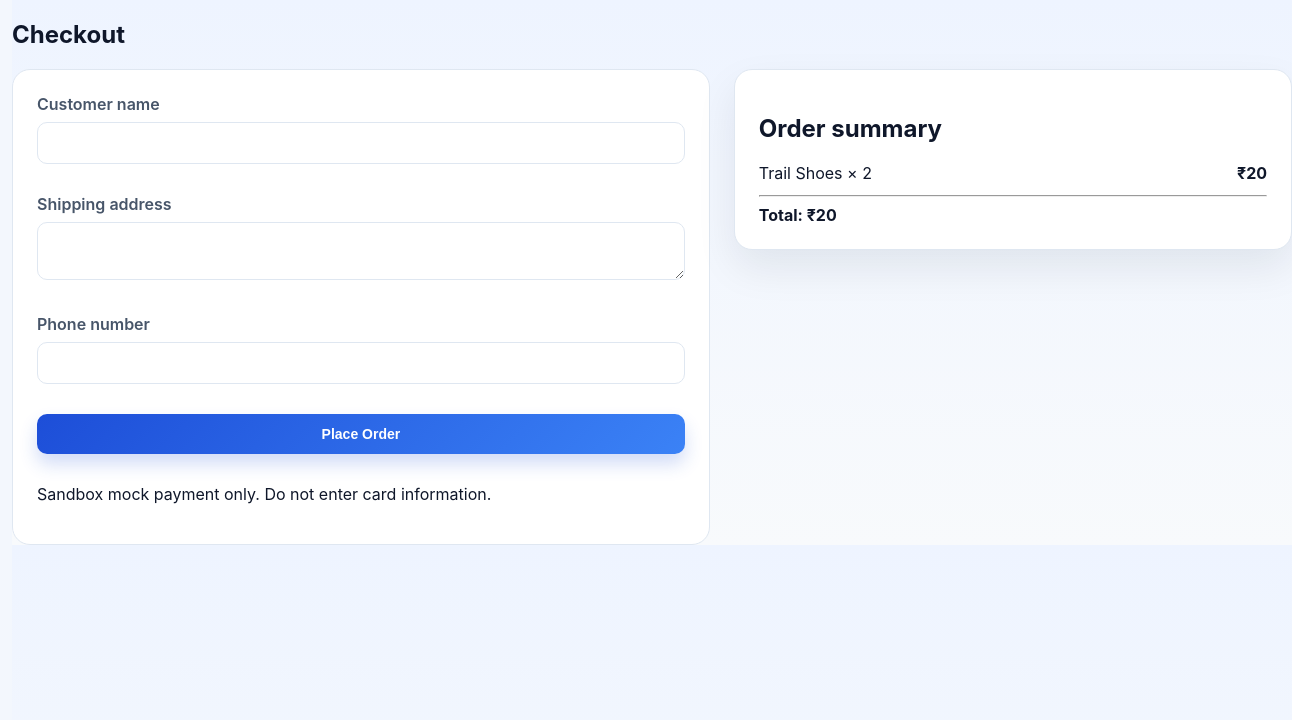
Test: checkout › retries payment with the same idempotency key after a transient error
expect the heading "Checkout" is shown: met, box x1=12 y1=20 x2=125 y2=49
Type "Demo Customer" into the field labelled "Customer name".
click(361, 143); type("Demo Customer")  # box x1=37 y1=122 x2=685 y2=164
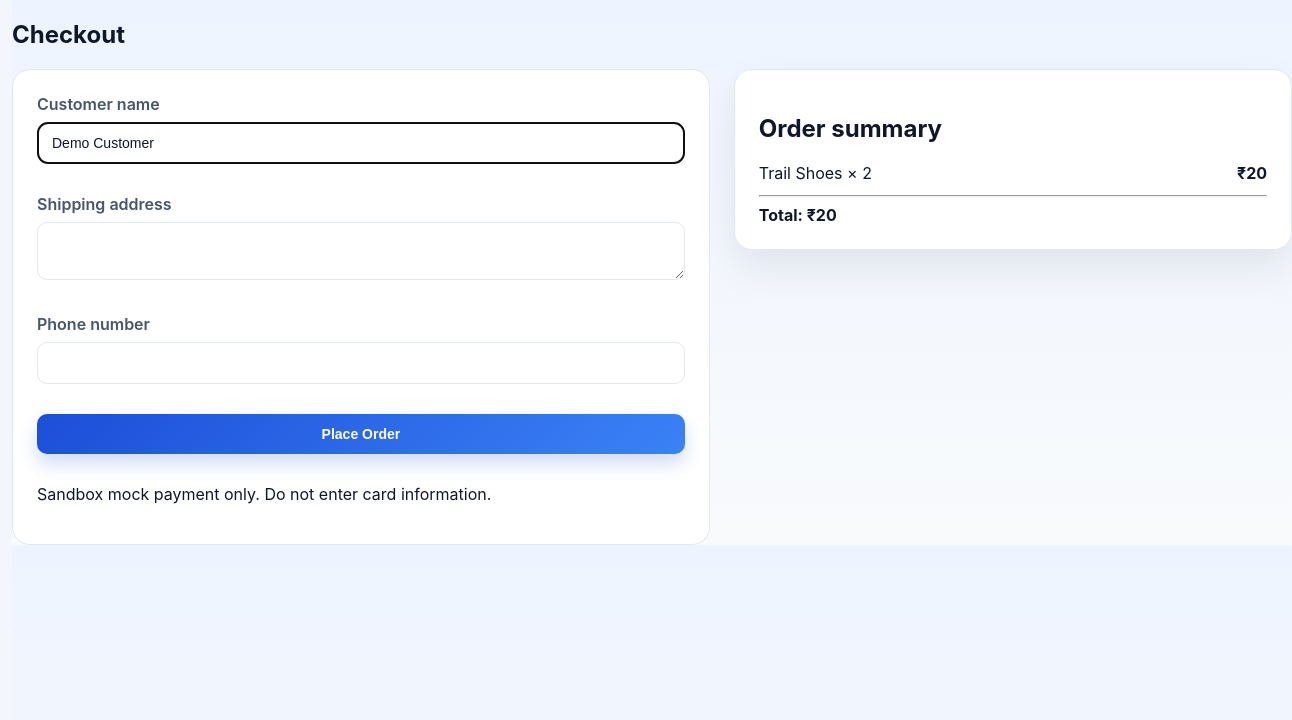
Type "123 Testing Avenue" into the text box labelled "Shipping address".
click(361, 251); type("123 Testing Avenue")  # box x1=37 y1=222 x2=685 y2=280
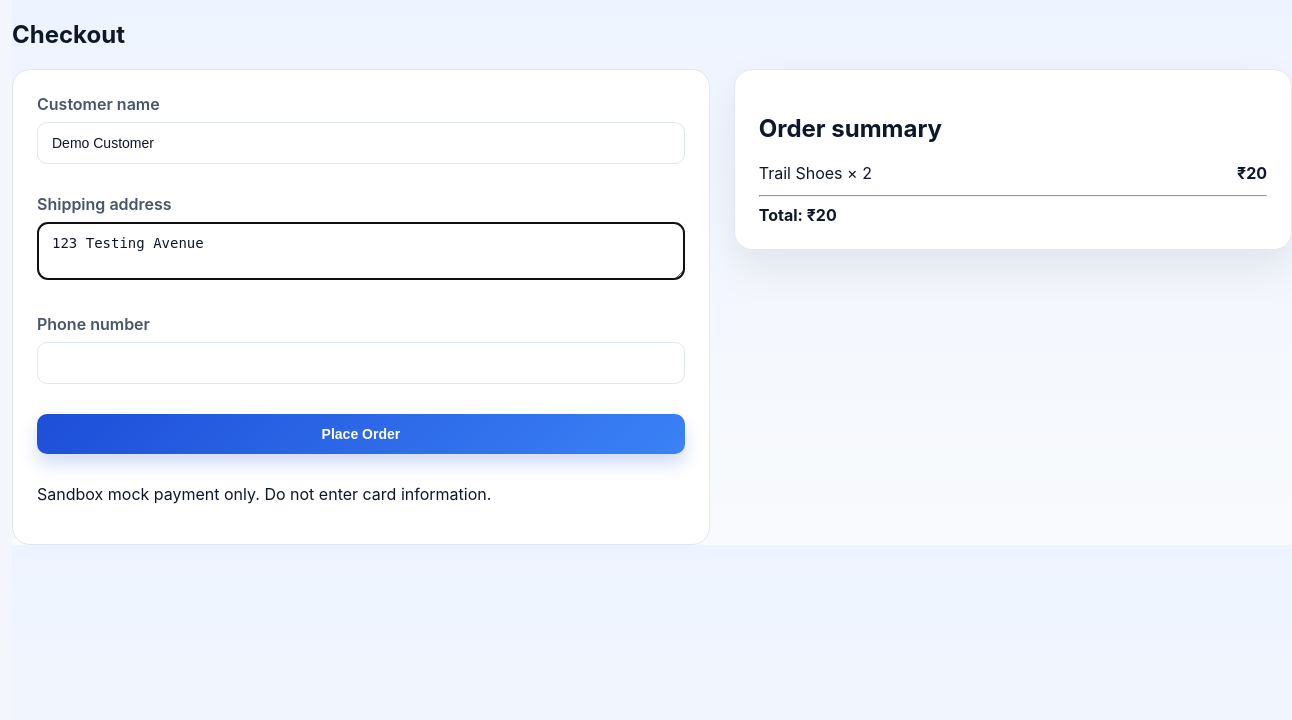
Type "555-0101" into the field labelled "Phone number".
click(361, 363); type("555-0101")  # box x1=37 y1=342 x2=685 y2=384
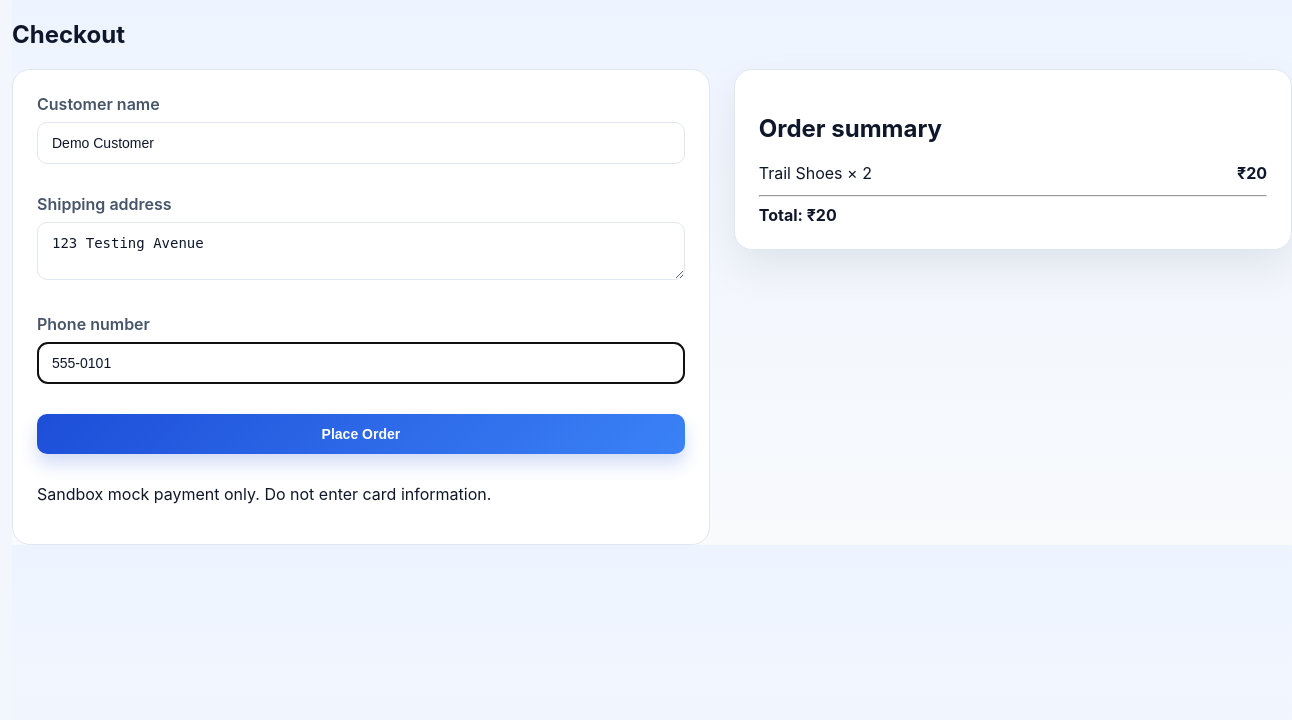
Click the button "Place Order".
click(361, 434)  # box x1=37 y1=414 x2=685 y2=454
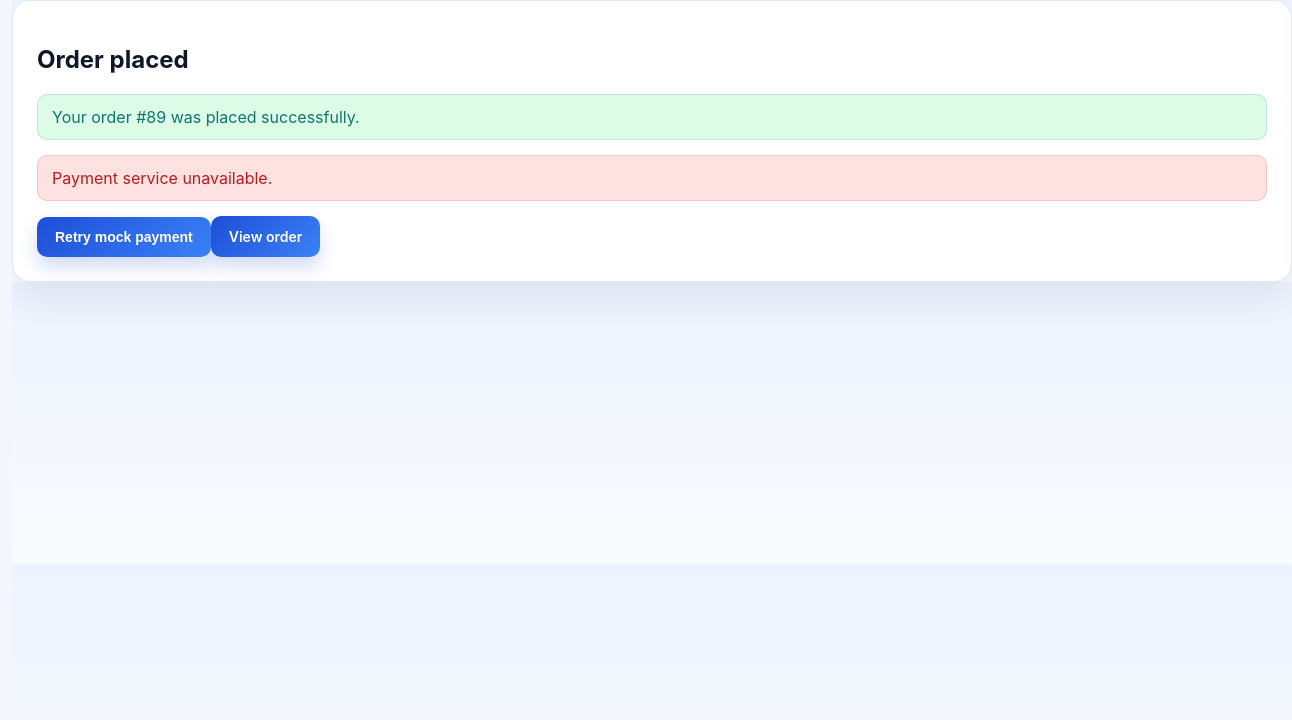
expect the message reads "Payment service unavailable.": met, box x1=52 y1=168 x2=272 y2=188
Click the button "Retry mock payment".
click(124, 237)  # box x1=37 y1=217 x2=211 y2=257
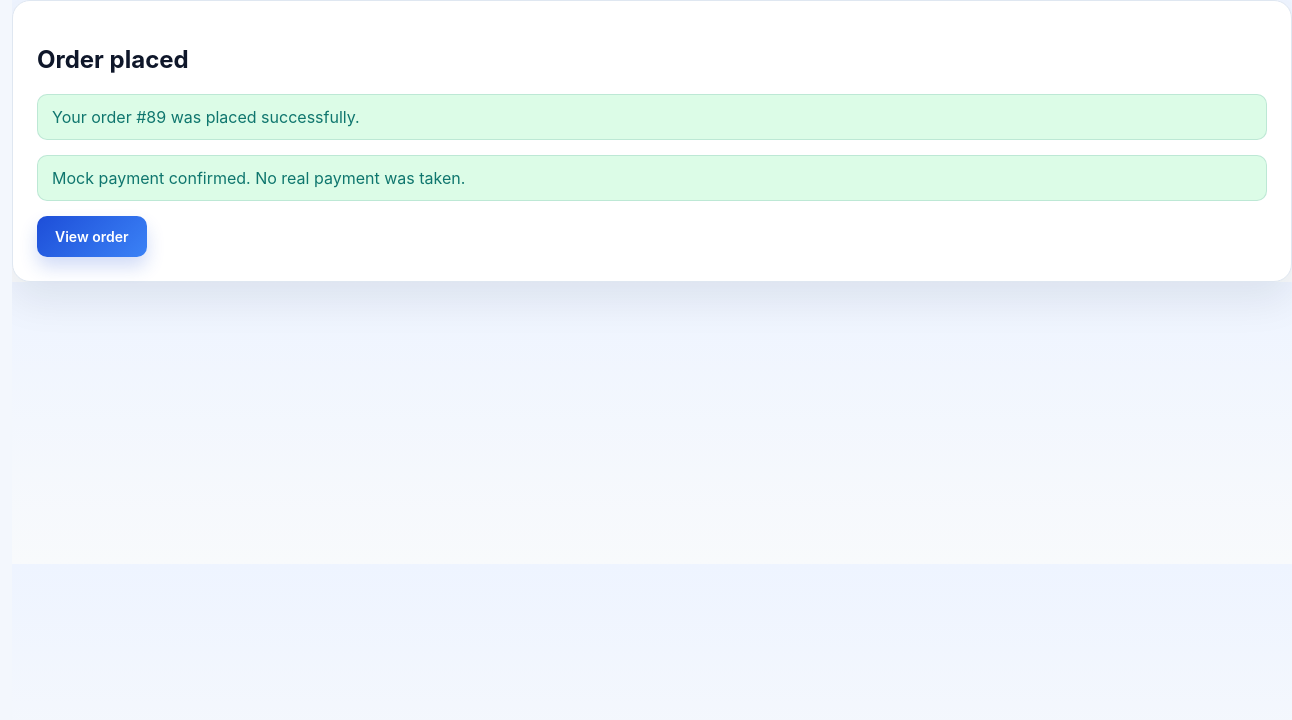
expect the text "Mock payment confirmed. No real payment was taken." is shown: met, box x1=37 y1=155 x2=1267 y2=201
